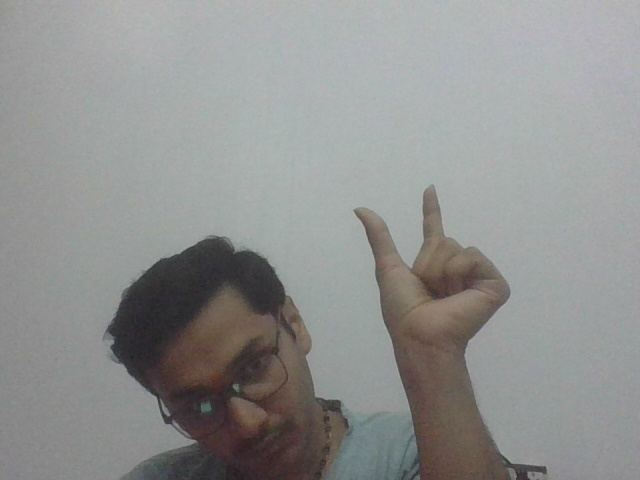U: (349, 181, 521, 355)
